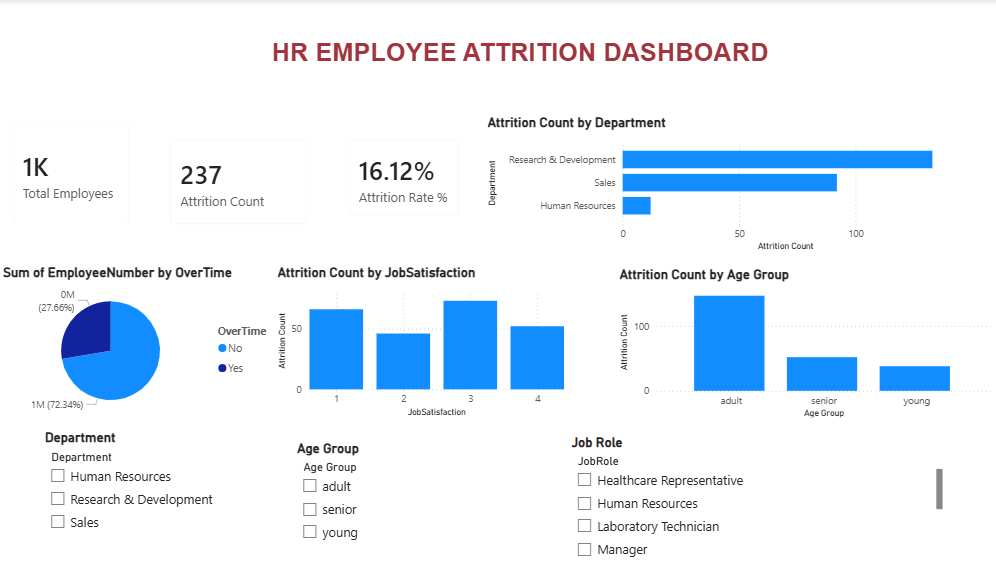

Layout of this report page (visuals, bound fields, positions):
{"tool":"powerbi","page":{"name":"Page 1","canvas":[1280,720],"ordinal":0},"visuals":[{"type":"cardVisual","fields":{"Data":["WA_Fn-UseC_-HR-Employee-Attrition.Total Employees"]},"box":[0,139.3,181.4,161.9],"z":0},{"type":"cardVisual","fields":{"Data":["WA_Fn-UseC_-HR-Employee-Attrition.Attrition Count"]},"box":[199.2,160.3,207.3,140.9],"z":1},{"type":"cardVisual","fields":{"Data":["WA_Fn-UseC_-HR-Employee-Attrition.Attrition Rate %"]},"box":[422.6,160.3,173.3,129.5],"z":2},{"type":"clusteredBarChart","fields":{"Category":["WA_Fn-UseC_-HR-Employee-Attrition.Department"],"Y":["WA_Fn-UseC_-HR-Employee-Attrition.Attrition Count"]},"box":[610.4,145.7,600.7,176.5],"z":3},{"type":"clusteredColumnChart","fields":{"Category":["WA_Fn-UseC_-HR-Employee-Attrition.Age Group"],"Y":["WA_Fn-UseC_-HR-Employee-Attrition.Attrition Count"]},"box":[777.2,336.8,477.7,195.9],"z":4},{"type":"pieChart","fields":{"Category":["WA_Fn-UseC_-HR-Employee-Attrition.OverTime"],"Y":["Sum(WA_Fn-UseC_-HR-Employee-Attrition.EmployeeNumber)"]},"box":[0,335.2,359.5,195.9],"z":5},{"type":"clusteredColumnChart","fields":{"Category":["WA_Fn-UseC_-HR-Employee-Attrition.JobSatisfaction"],"Y":["WA_Fn-UseC_-HR-Employee-Attrition.Attrition Count"]},"box":[344.9,335.2,370.8,195.9],"z":6},{"type":"slicer","title":"Department","fields":{"Values":["WA_Fn-UseC_-HR-Employee-Attrition.Department"]},"box":[53.4,542.4,291.5,178.1],"z":7},{"type":"slicer","title":"Age Group","fields":{"Values":["WA_Fn-UseC_-HR-Employee-Attrition.Age Group"]},"box":[370.8,555.4,344.9,165.2],"z":8},{"type":"slicer","title":"Job Role","fields":{"Values":["WA_Fn-UseC_-HR-Employee-Attrition.JobRole"]},"box":[715.7,548.9,477.7,165.2],"z":9},{"type":"textbox","box":[100.4,37.2,991,58.3],"z":10}]}

Visuals, with their boxes in screenshot pixels (x1, y1, x2, y2), scaled from the page's 1280x720 canvas onto the 996x568 screenshot:
cardVisual - WA_Fn-UseC_-HR-Employee-Attrition.Total Employees: (0,110,141,238)
cardVisual - WA_Fn-UseC_-HR-Employee-Attrition.Attrition Count: (155,126,316,238)
cardVisual - WA_Fn-UseC_-HR-Employee-Attrition.Attrition Rate %: (329,126,464,229)
clusteredBarChart - WA_Fn-UseC_-HR-Employee-Attrition.Department x WA_Fn-UseC_-HR-Employee-Attrition.Attrition Count: (475,115,942,254)
clusteredColumnChart - WA_Fn-UseC_-HR-Employee-Attrition.Age Group x WA_Fn-UseC_-HR-Employee-Attrition.Attrition Count: (605,266,976,420)
pieChart - WA_Fn-UseC_-HR-Employee-Attrition.OverTime x Sum(WA_Fn-UseC_-HR-Employee-Attrition.EmployeeNumber): (0,264,280,419)
clusteredColumnChart - WA_Fn-UseC_-HR-Employee-Attrition.JobSatisfaction x WA_Fn-UseC_-HR-Employee-Attrition.Attrition Count: (268,264,557,419)
"Department" slicer: (42,428,268,567)
"Age Group" slicer: (289,438,557,567)
"Job Role" slicer: (557,433,929,563)
textbox: (78,29,849,75)
